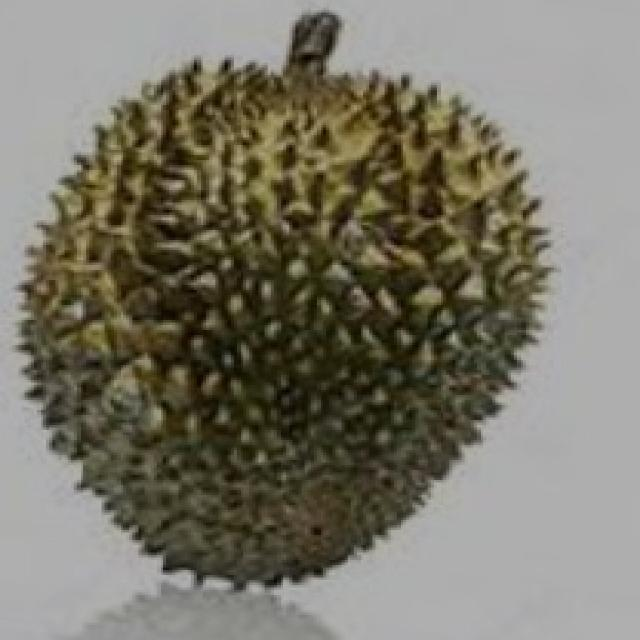fruit: (0, 238, 382, 628), (3, 13, 351, 415)
